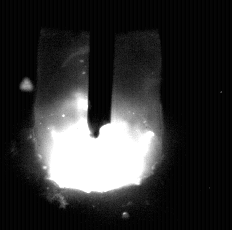arame: (88, 0, 113, 138)
poca: (34, 0, 163, 230)
